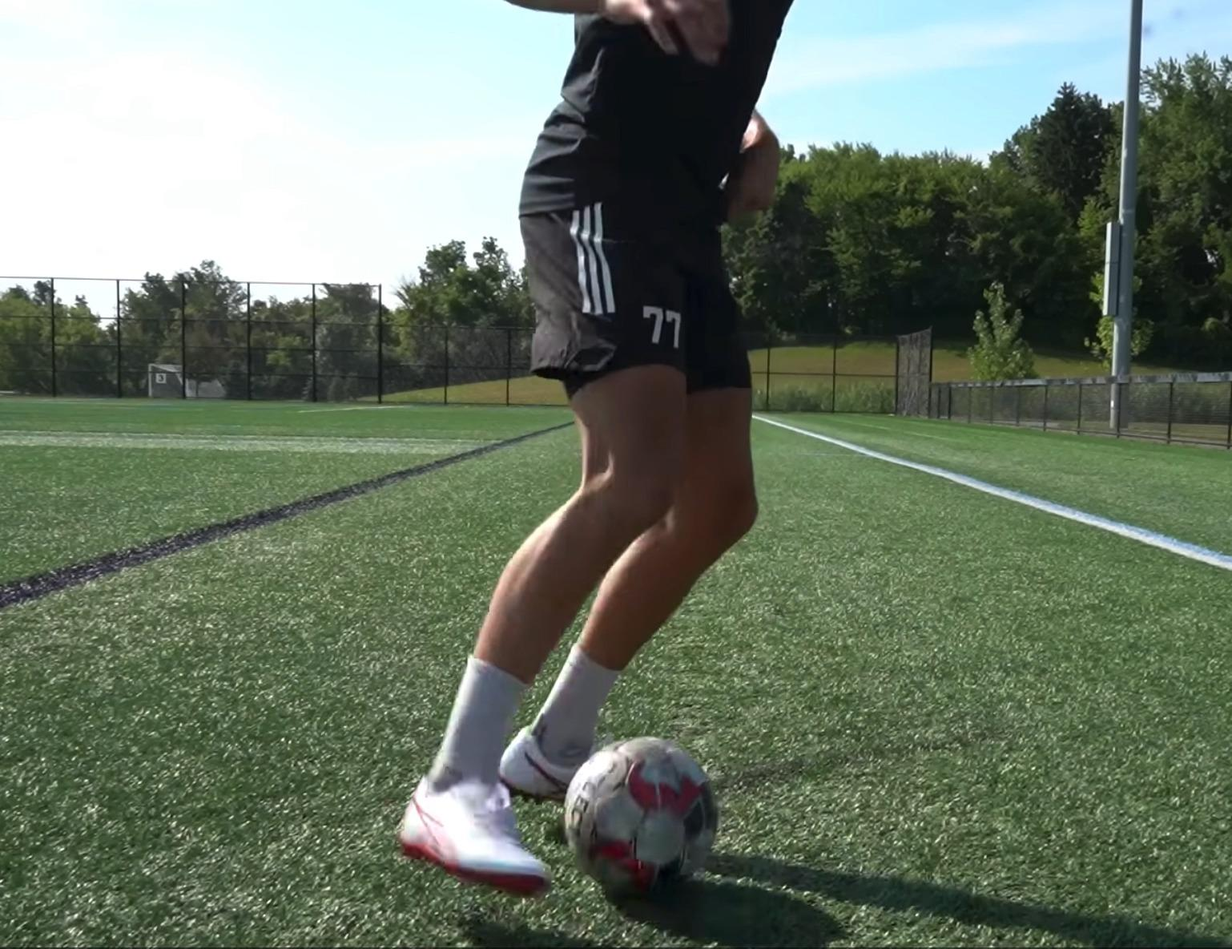ball: (563, 738, 715, 894)
foot: (395, 766, 551, 899)
person: (396, 0, 805, 896)
